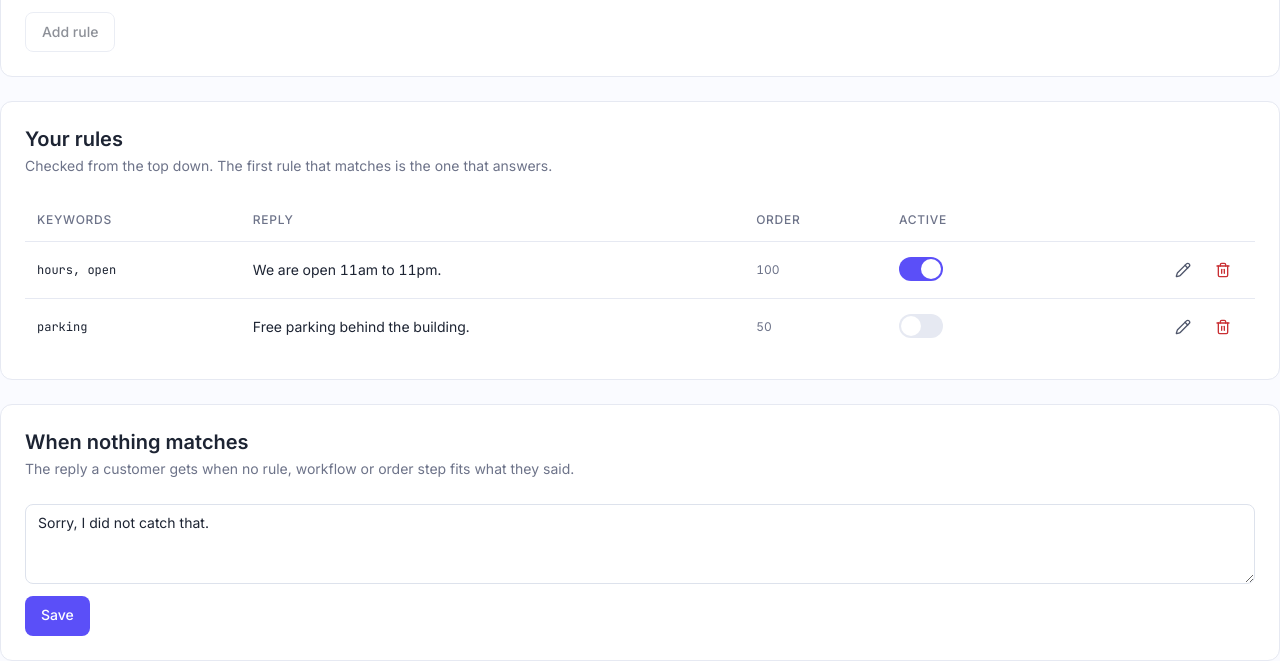
the fallback box › will not save an empty message
This screenshot has width=1280, height=661.
(page scrolled)
Clear the text box named "Fallback message". click: {"x": 640, "y": 544}
box: [25,504,1255,584]
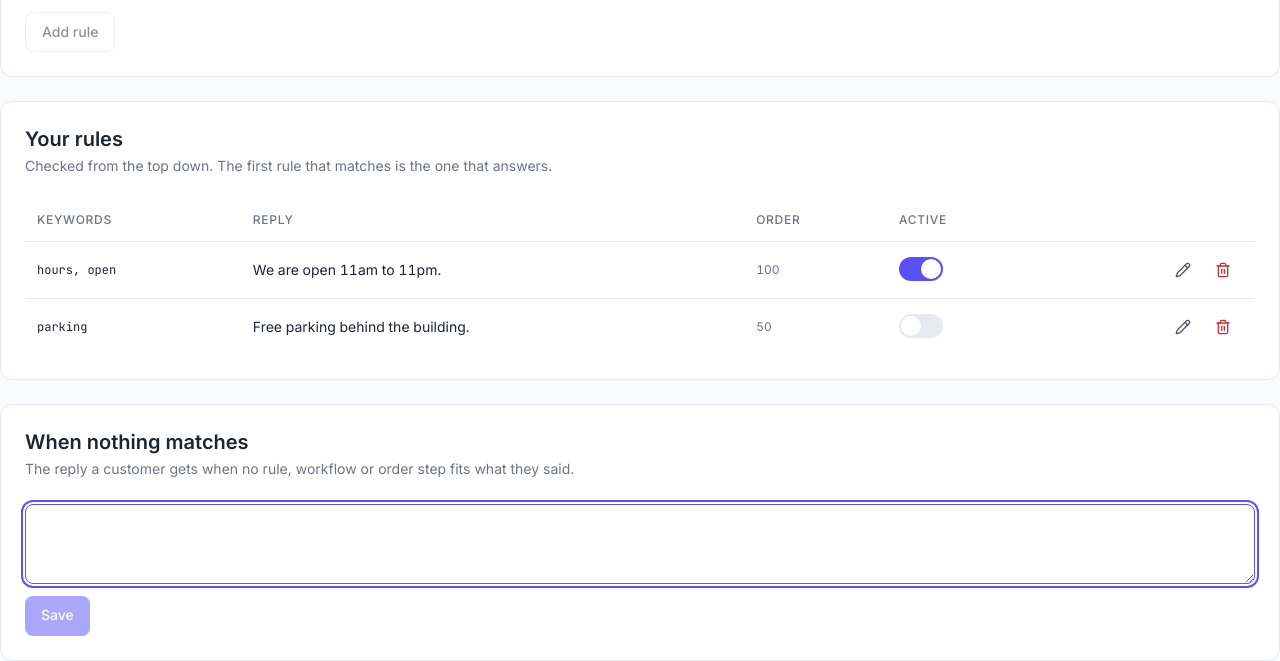
Expected: the button "Save" is disabled, [25,596,90,636]
